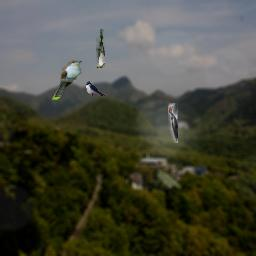Cuckoo: (52, 60, 82, 100), (96, 29, 105, 69)
Swallow: (86, 81, 106, 96)
Woodpecker: (168, 103, 178, 143)
